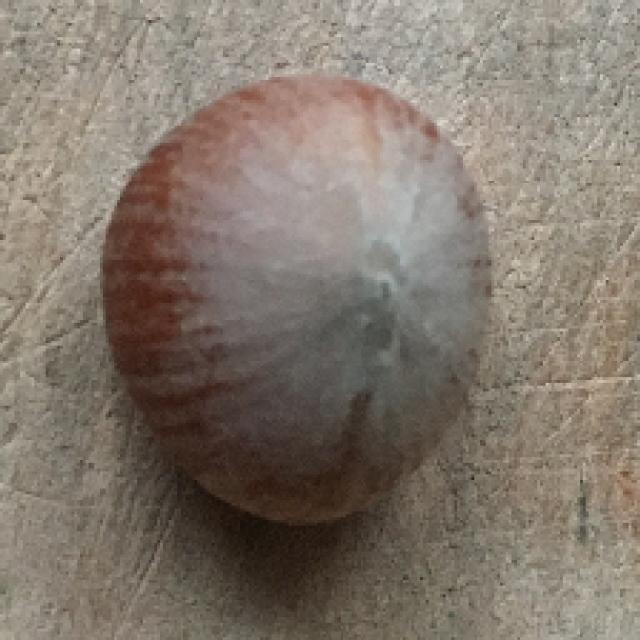QualityHazelnut: (103, 76, 497, 525)
